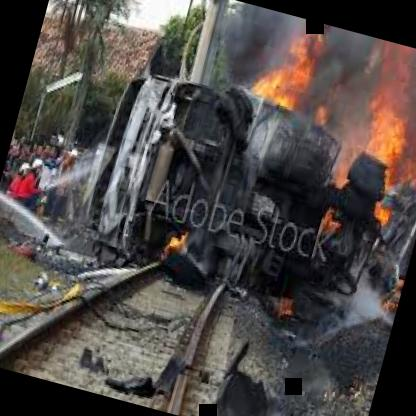fire: (86, 0, 416, 340)
